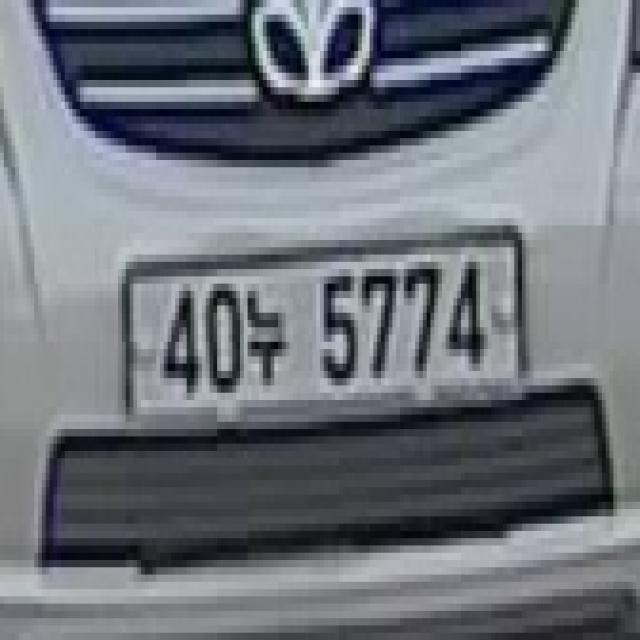0: (202, 284, 244, 392)
4: (156, 284, 198, 407), (446, 262, 488, 378)
5: (320, 269, 358, 393)
7: (396, 262, 442, 378), (354, 262, 396, 385)
license_plate: (122, 232, 522, 414)
nu: (244, 284, 286, 392)
